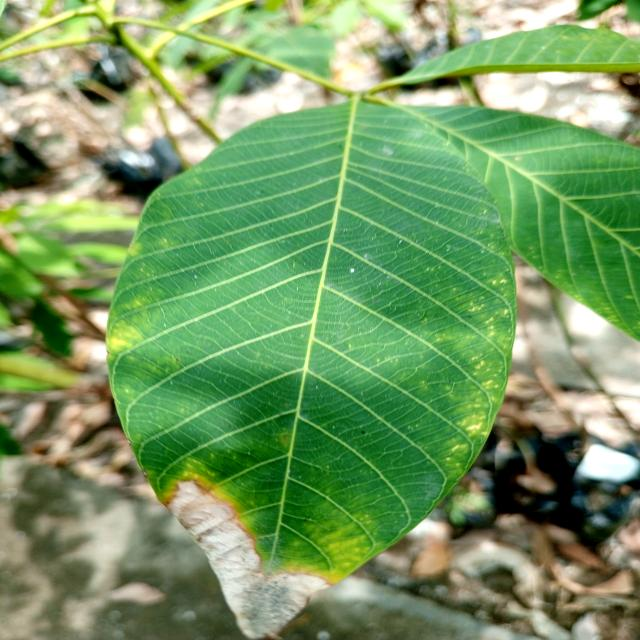Leaf-Blight: (162, 477, 334, 640)
